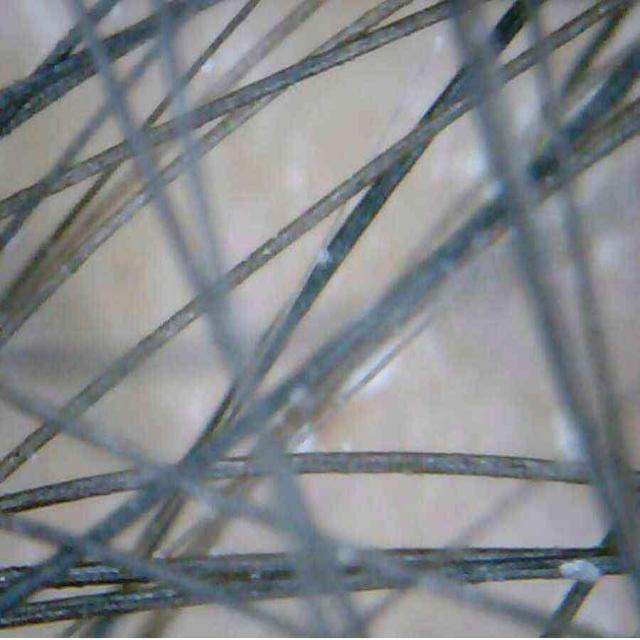d: (557, 557, 602, 584)
